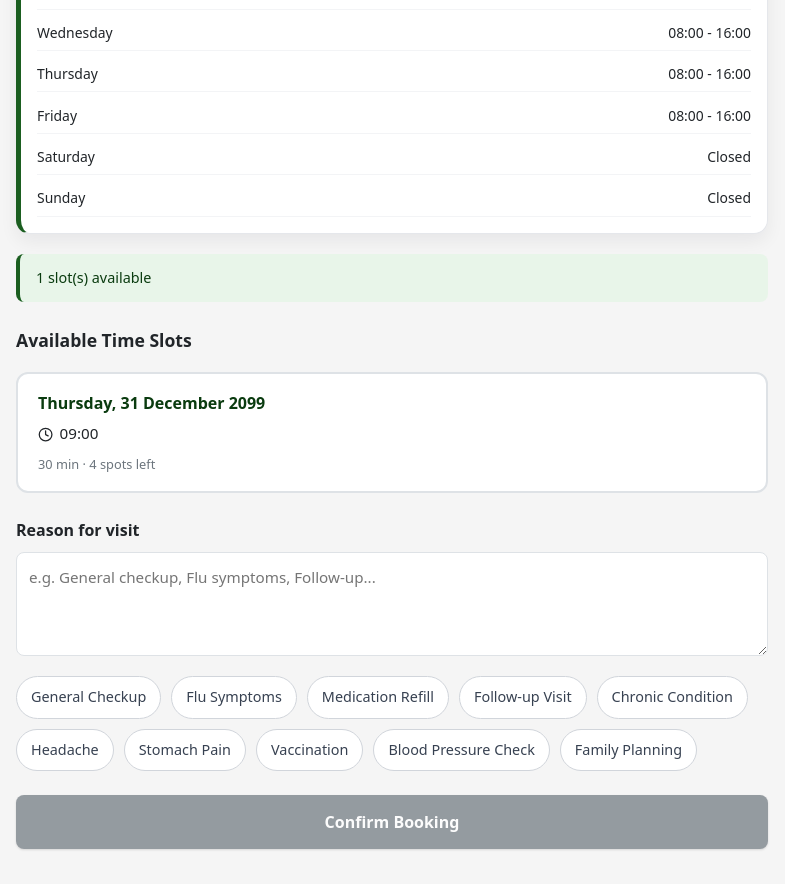
Test: Slot selection › shows 'Selected' indicator after clicking a slot
(page scrolled)
Click the text "09:00" at (68, 433), box [38,423,98,443]
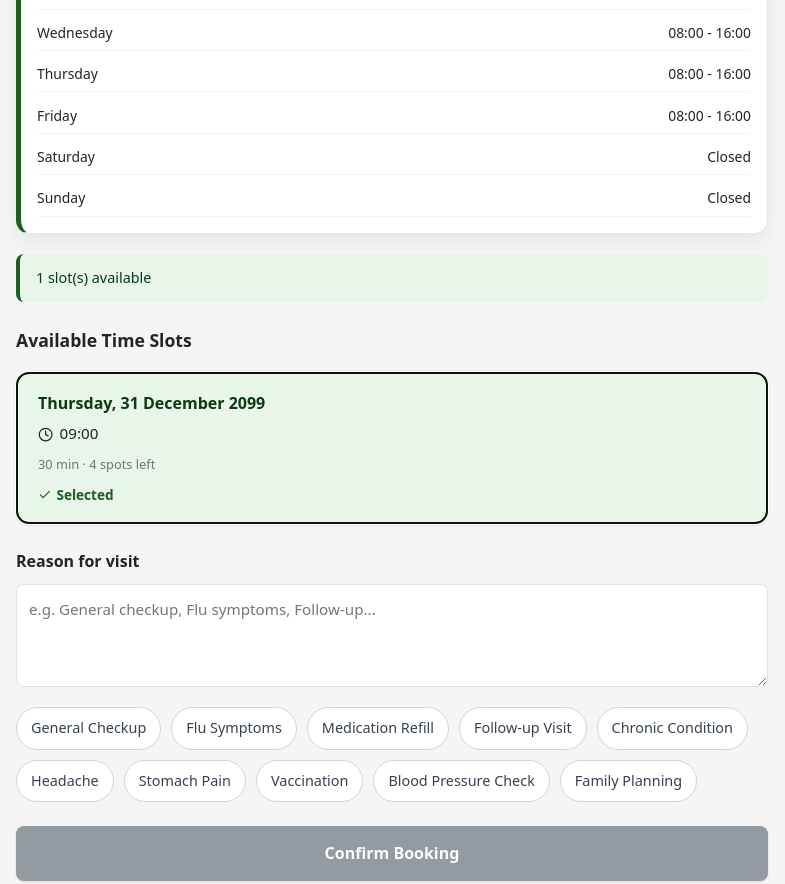
expect the text "Selected" is shown: met, box [38,485,114,504]
